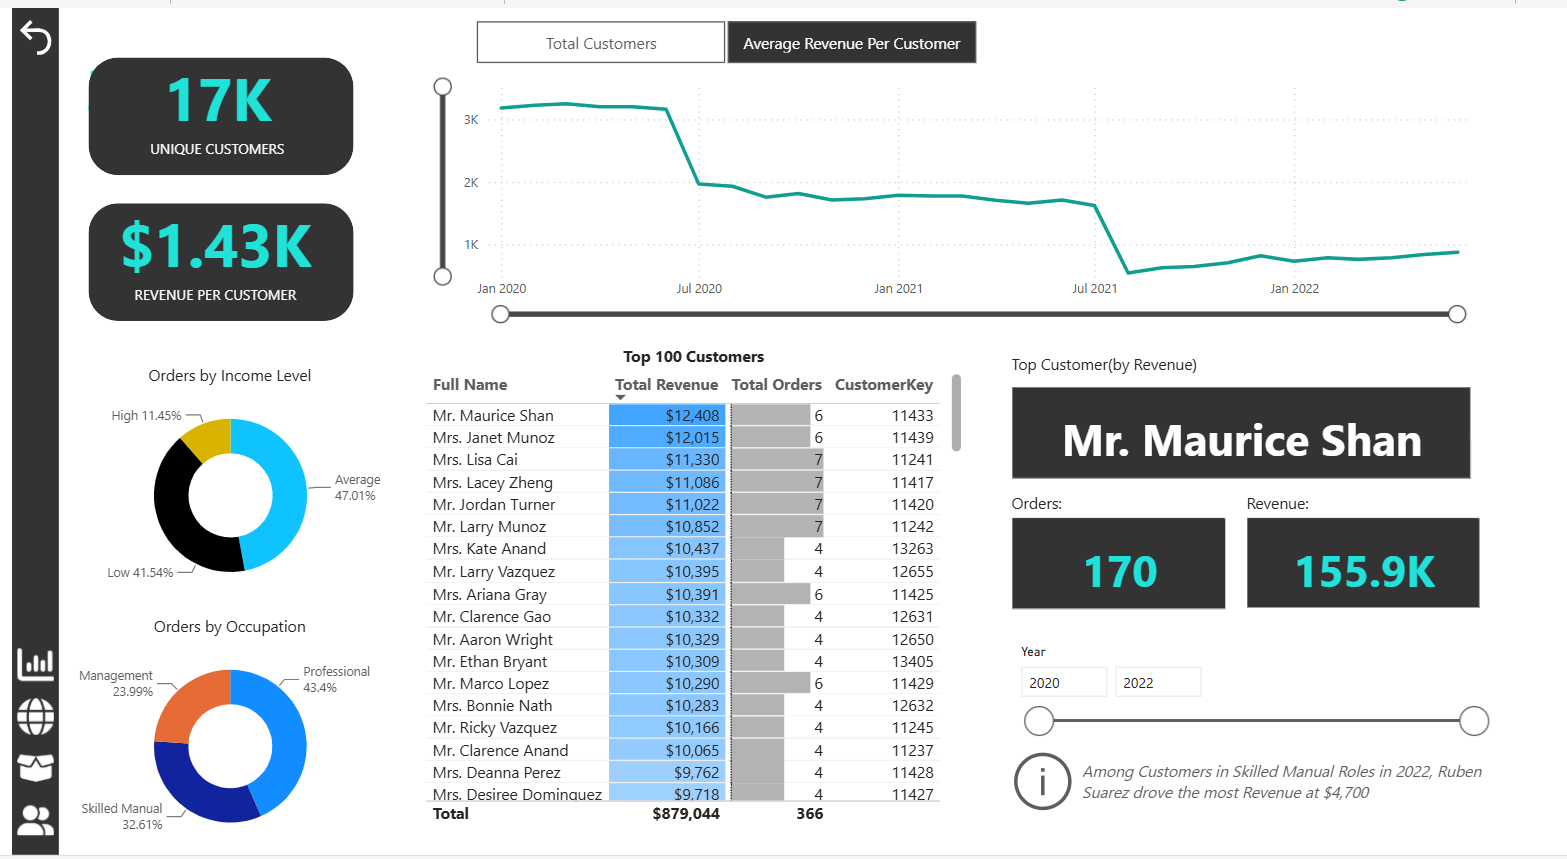

The page's visual inventory and layout, read from the dashboard file:
{"tool":"powerbi","page":{"name":"Customer Detail","canvas":[1280,720],"ordinal":3},"visuals":[{"type":"shape","box":[0,0,39.8,719.7],"z":0},{"type":"shape","box":[65.1,42.1,225.2,100],"z":0,"group":"g1"},{"type":"actionButton","box":[0,537.6,100,39.8],"z":0,"group":"g3"},{"type":"shape","box":[64.8,166.1,225.3,100],"z":500,"group":"g1"},{"type":"cardVisual","fields":{"Data":["Measure Table.Total Revenue"]},"box":[0,4.1,276,140.4],"z":1000},{"type":"actionButton","box":[0,581.7,100,39.8],"z":1000,"group":"g3"},{"type":"group","id":"g1","title":"KPIs Background","box":[64.8,42.1,225.5,224],"z":2000},{"type":"actionButton","box":[0,625.8,100,39.8],"z":2000,"group":"g3"},{"type":"group","id":"g2","title":"KPIs Values","box":[2.7,23.4,341.8,268],"z":3000},{"type":"actionButton","box":[0,669.9,100,39.8],"z":3000,"group":"g3"},{"type":"lineChart","title":"Customers Trending","fields":{"Y":["Measure Table.Average Revenue Per Customer"],"Category":["Calendar Lookup.DateHierarchy.Start of Year","Calendar Lookup.DateHierarchy.Start of Month","Calendar Lookup.DateHierarchy.Start of Week","Calendar Lookup.DateHierarchy.Date"]},"box":[355.1,53.6,900,217.4],"z":4000},{"type":"cardVisual","fields":{"Data":["Measure Table.Total Customers"]},"box":[52.7,23.4,245.9,121.8],"z":4500,"group":"g2"},{"type":"cardVisual","fields":{"Data":["Measure Table.Average Revenue Per Customer"]},"box":[2.7,126.7,341.8,164.7],"z":5000,"group":"g2"},{"type":"donutChart","title":"Orders by Income Level","fields":{"Y":["Measure Table.Total Orders"],"Category":["Customer Lookup.Income Level"]},"box":[49.4,302.5,270.9,203.8],"z":5000},{"type":"donutChart","title":"Orders by Occupation","fields":{"Y":["Measure Table.Total Orders"],"Category":["Customer Lookup.Occupation"]},"box":[49.4,516.4,270.6,203.3],"z":6000},{"type":"textbox","box":[850.6,382.3,274.7,12.7],"z":7000},{"type":"tableEx","title":"Top 100 Customers","fields":{"Values":["Customer Lookup.Full Name","Measure Table.Total Revenue","Measure Table.Total Orders","Customer Lookup.CustomerKey"]},"box":[346.2,287.1,465.6,410.8],"z":8000},{"type":"cardVisual","fields":{"Data":["Min(Customer Lookup.Full Name)"]},"box":[844.1,316.4,400.9,88.9],"z":9000},{"type":"cardVisual","fields":{"Data":["Measure Table.Total Revenue"]},"box":[1044.3,427.8,208.9,87.3],"z":10000},{"type":"cardVisual","fields":{"Data":["Measure Table.Total Orders"]},"box":[844.3,427.8,192.4,88.6],"z":11000},{"type":"textbox","box":[844.3,287.3,191.1,29.1],"z":12000},{"type":"textbox","box":[844.3,405.1,191.1,27.8],"z":13000},{"type":"textbox","box":[1044.3,405.1,208.9,27.8],"z":14000},{"type":"slicer","fields":{"Values":["Calendar Lookup.Year"]},"box":[844.1,535.5,419.4,116.1],"z":15000},{"type":"actionButton","box":[0,4.3,100,39.8],"z":16000},{"type":"actionButton","box":[844.1,625.8,419.4,62.4],"z":17000},{"type":"group","id":"g3","title":"Navigation Buttons","box":[0,537.6,100,172],"z":18000},{"type":"slicer","fields":{"Values":["Customer Metric Selection.Customer Metric Selection"]},"box":[369.6,4.3,473.9,49.3],"z":19000}]}

Visuals, with their boxes on the page's 1280x720 design canvas (x1, y1, x2, y2). These are canvas units, not pixel positions in the 1567x859 screenshot, which may show the page scaled, cropped or inside an application window:
shape: [0, 0, 40, 720]
shape: [65, 42, 290, 142]
actionButton: [0, 538, 100, 577]
shape: [65, 166, 290, 266]
cardVisual - Measure Table.Total Revenue: [0, 4, 276, 144]
actionButton: [0, 582, 100, 622]
"KPIs Background" group: [65, 42, 290, 266]
actionButton: [0, 626, 100, 666]
"KPIs Values" group: [3, 23, 344, 291]
actionButton: [0, 670, 100, 710]
"Customers Trending" lineChart: [355, 54, 1255, 271]
cardVisual - Measure Table.Total Customers: [53, 23, 299, 145]
cardVisual - Measure Table.Average Revenue Per Customer: [3, 127, 344, 291]
"Orders by Income Level" donutChart: [49, 302, 320, 506]
"Orders by Occupation" donutChart: [49, 516, 320, 720]
textbox: [851, 382, 1125, 395]
"Top 100 Customers" tableEx: [346, 287, 812, 698]
cardVisual - Min(Customer Lookup.Full Name): [844, 316, 1245, 405]
cardVisual - Measure Table.Total Revenue: [1044, 428, 1253, 515]
cardVisual - Measure Table.Total Orders: [844, 428, 1037, 516]
textbox: [844, 287, 1035, 316]
textbox: [844, 405, 1035, 433]
textbox: [1044, 405, 1253, 433]
slicer - Calendar Lookup.Year: [844, 536, 1264, 652]
actionButton: [0, 4, 100, 44]
actionButton: [844, 626, 1264, 688]
"Navigation Buttons" group: [0, 538, 100, 710]
slicer - Customer Metric Selection.Customer Metric Selection: [370, 4, 844, 54]
